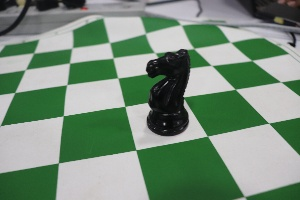black_horse: (140, 29, 198, 142)
